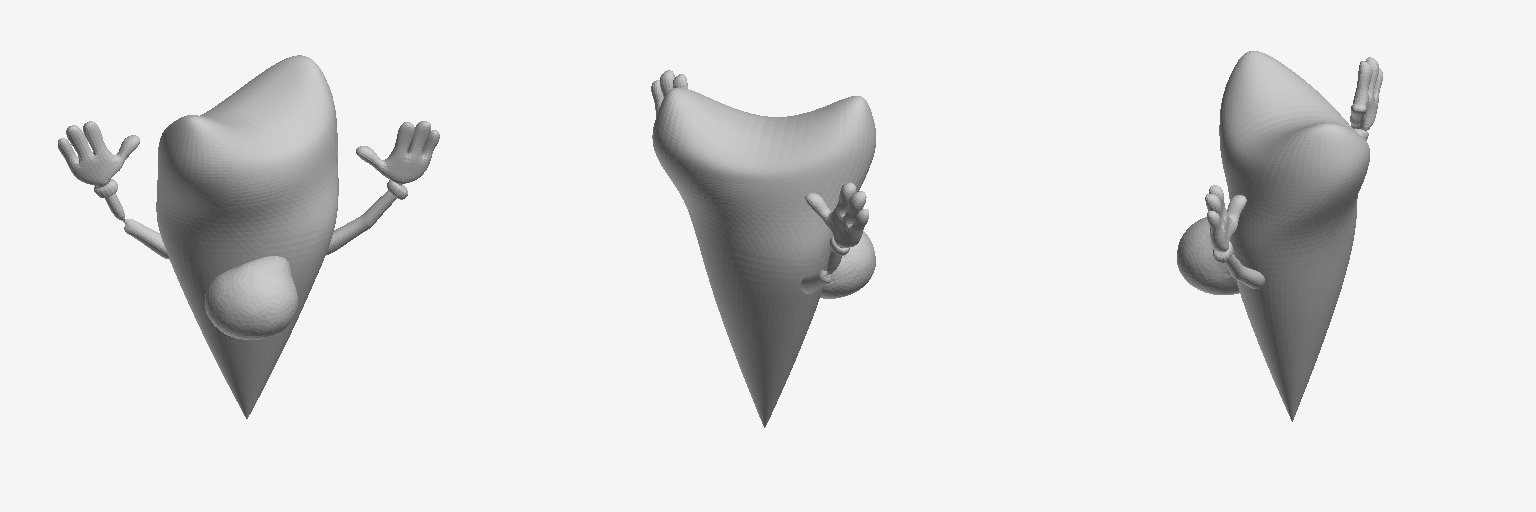
Rendered from java-duke6.obj.
3 renders of one model, left to right at view 1: azimuth 30°, elevation 25°; view 2: azimuth 150°, elevation 25°; view 3: azimuth 270°, elevation 25°, orthographic.
Visible parts, largest first — view 1: javadude, javadude_hands, javadude_nase; view 2: javadude, javadude_hands, javadude_nase; view 3: javadude, javadude_hands, javadude_nase.
Boxes of the visible parts, box(x1,y1,x2,y2) form: javadude: box(156, 55, 338, 418); javadude_hands: box(58, 121, 439, 258); javadude_nase: box(205, 256, 297, 339); javadude: box(652, 87, 875, 427); javadude_hands: box(651, 70, 868, 293); javadude_nase: box(820, 231, 875, 298); javadude: box(1219, 51, 1369, 421); javadude_hands: box(1205, 57, 1382, 288); javadude_nase: box(1177, 217, 1239, 294).
Bounding box in the file's own units: 3.7 × 3.96 × 2.21.